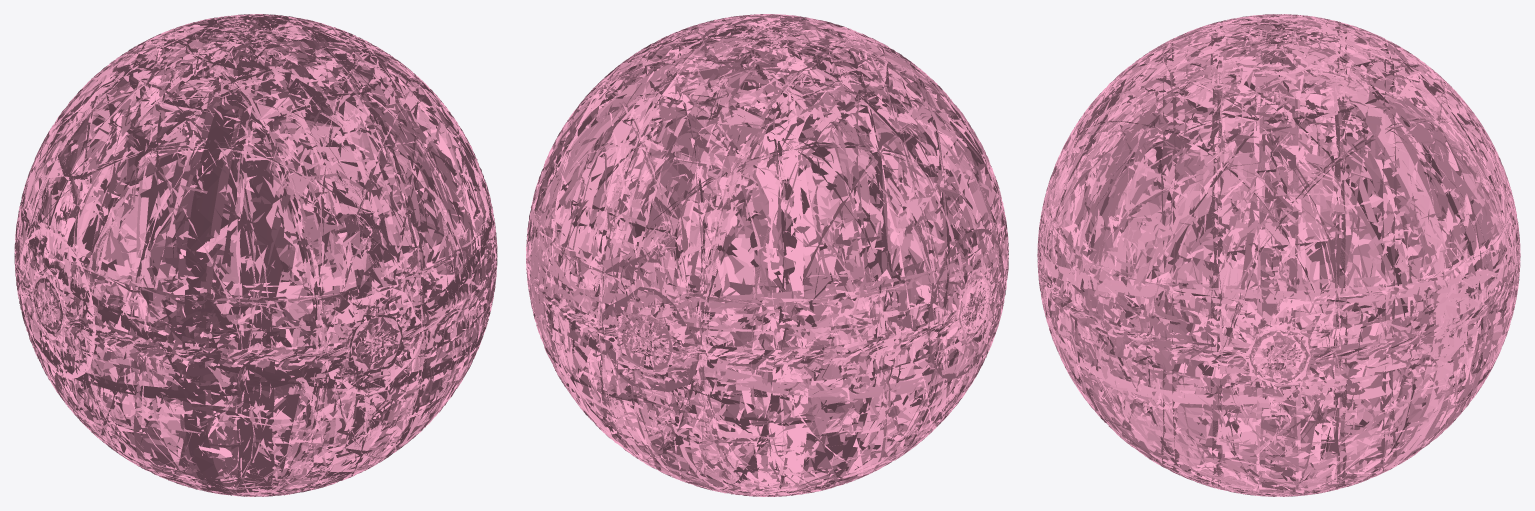
Rendered from sys-cd-fire_gas.glb.
The picture shows the model from 3 angles, left to right: view 1: azimuth 30°, elevation 25°; view 2: azimuth 150°, elevation 25°; view 3: azimuth 270°, elevation 25°; orthographic projection.
Visible parts, largest first — view 1: TS-cd-fire_gas-1703; view 2: TS-cd-fire_gas-1703; view 3: TS-cd-fire_gas-1703.
Part boxes in pixels (box(x1,y1,x2,y2)): TS-cd-fire_gas-1703: box(14, 14, 497, 496); TS-cd-fire_gas-1703: box(526, 14, 1008, 496); TS-cd-fire_gas-1703: box(1037, 14, 1520, 496).
Bounding box in the file's own units: 2 × 2 × 2.
